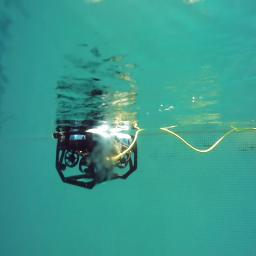back: (51, 132, 138, 192)
